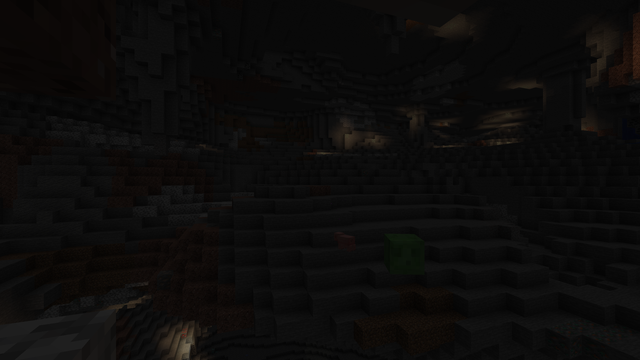cochons: (337, 234, 355, 251)
slimes: (379, 231, 427, 275)
